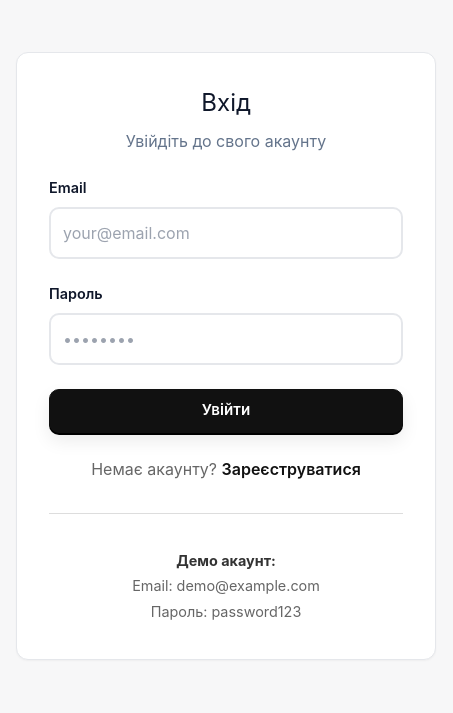
Test: Integration Tests › Authentication Flow › should show error message on login failure
In the field labelled "Email": coordinates (226, 233) [49,207,403,259], type "test@example.com"
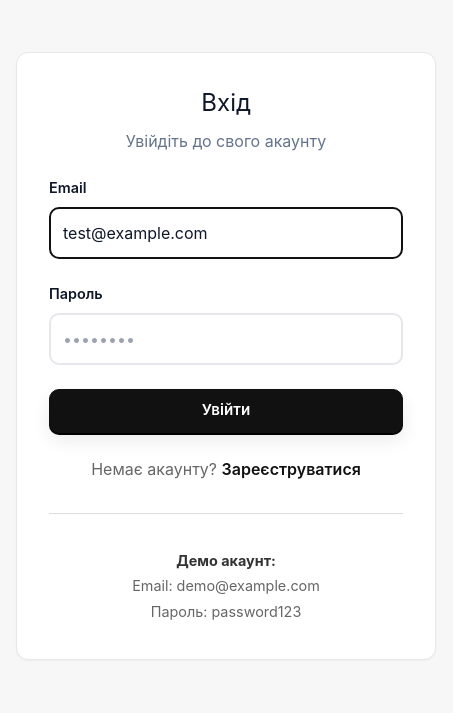
In the password field labelled "Пароль": coordinates (226, 339) [49,313,403,365], type "wrong"
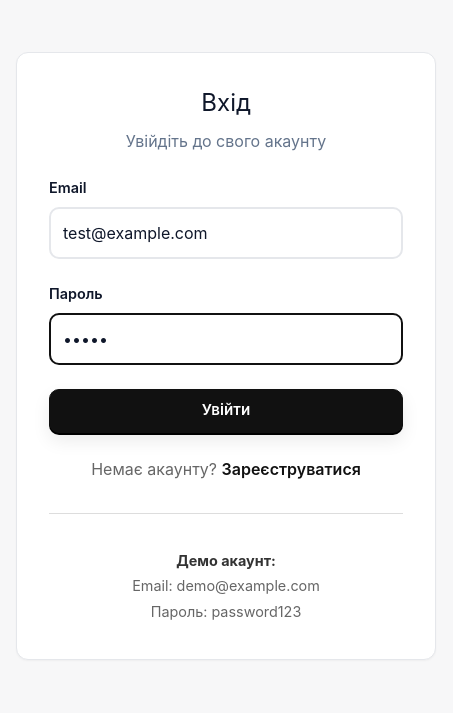
Click the button "Увійти": coordinates (226, 411) [49,389,403,433]
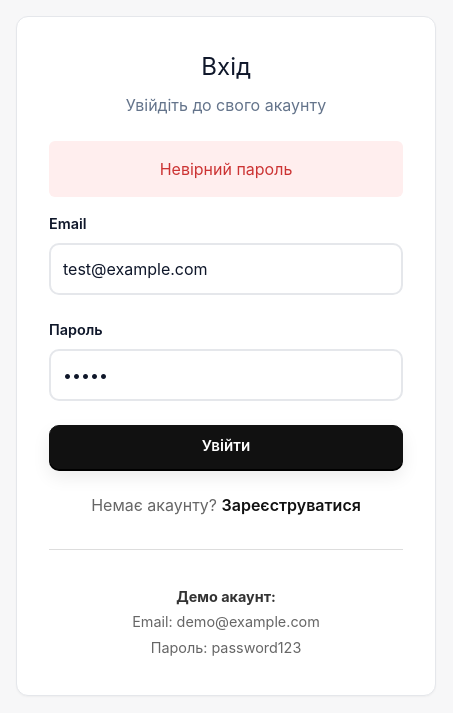
Now the text "Невірний пароль" is shown, box [49,142,403,198]
